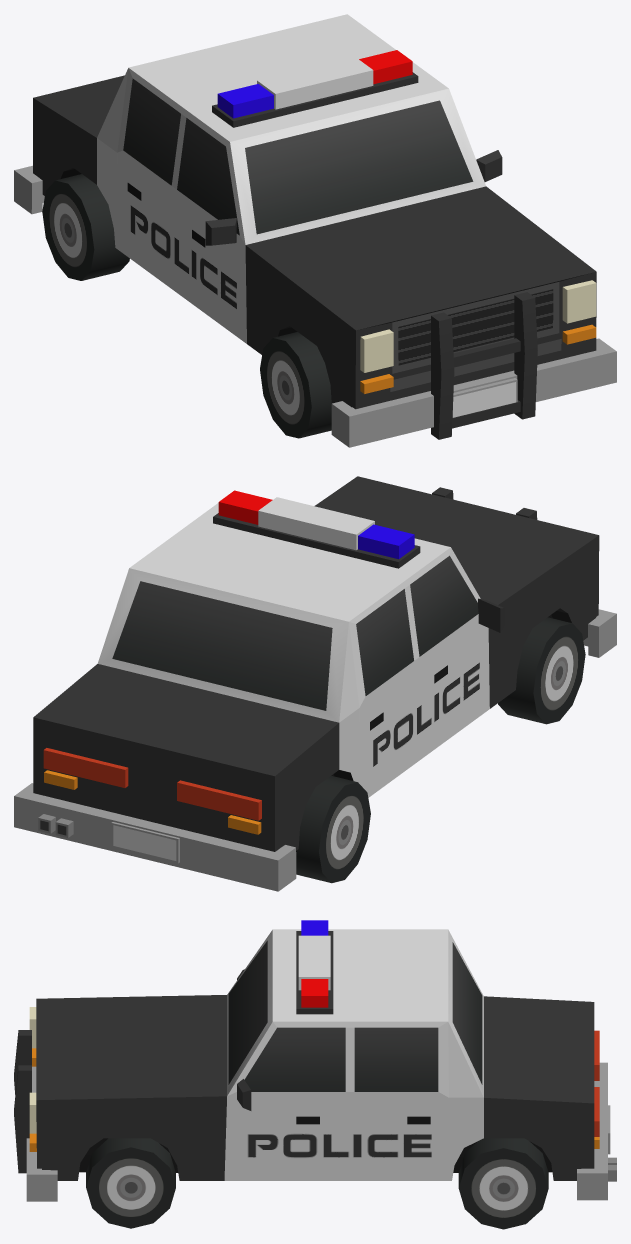
File: PoliceCarA.fbx
3 renders of one model, top to bottom at view 1: azimuth 30°, elevation 25°; view 2: azimuth 150°, elevation 25°; view 3: azimuth 270°, elevation 25°, orthographic. The views are drawn at different scales.
Parts seen in each view (by area): view 1: PoliceCarA, TireBR, TireFR; view 2: PoliceCarA, TireBR, TireFR; view 3: PoliceCarA, TireBL, TireFL.
Boxes of the visible parts, left/top/right/bottom form: PoliceCarA: left=14, top=14, right=616, bottom=447; TireBR: left=42, top=174, right=129, bottom=280; TireFR: left=260, top=332, right=331, bottom=438; PoliceCarA: left=14, top=476, right=616, bottom=891; TireBR: left=296, top=775, right=370, bottom=883; TireFR: left=498, top=617, right=585, bottom=724; PoliceCarA: left=14, top=920, right=616, bottom=1201; TireBL: left=458, top=1138, right=548, bottom=1229; TireFL: left=86, top=1138, right=175, bottom=1228.
Size of the model in its own units: 211 by 172 by 436.
